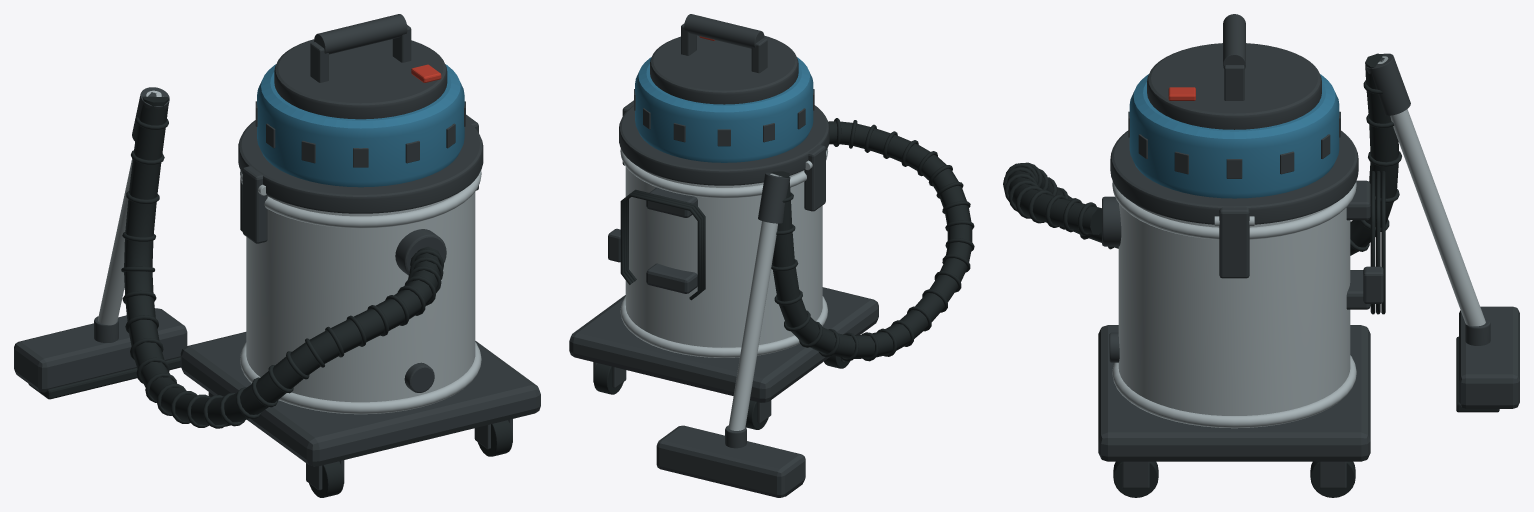
File: city-wet-dry-vacuum.glb
3 renders of one model, left to right at view 1: azimuth 30°, elevation 25°; view 2: azimuth 150°, elevation 25°; view 3: azimuth 270°, elevation 25°, orthographic. The views are drawn at different scales.
Parts seen in each view (by area): view 1: Assembly | Dark powder coated steel, Assembly | Brushed stainless fittings, Assembly | Charcoal flexible rubber, Assembly | Deep blue molded polymer; view 2: Assembly | Dark powder coated steel, Assembly | Brushed stainless fittings, Assembly | Charcoal flexible rubber, Assembly | Deep blue molded polymer; view 3: Assembly | Dark powder coated steel, Assembly | Brushed stainless fittings, Assembly | Deep blue molded polymer, Assembly | Charcoal flexible rubber.
Boxes of the visible parts, box(x1,y1,x2,y2) form: Assembly | Dark powder coated steel: box(14, 14, 540, 490); Assembly | Brushed stainless fittings: box(98, 90, 481, 414); Assembly | Charcoal flexible rubber: box(28, 96, 512, 497); Assembly | Deep blue molded polymer: box(257, 64, 464, 187); Assembly | Dark powder coated steel: box(569, 14, 878, 497); Assembly | Brushed stainless fittings: box(620, 148, 827, 430); Assembly | Charcoal flexible rubber: box(593, 118, 974, 496); Assembly | Deep blue molded polymer: box(635, 57, 813, 162); Assembly | Dark powder coated steel: box(1098, 14, 1519, 488); Assembly | Brushed stainless fittings: box(1112, 56, 1485, 428); Assembly | Deep blue molded polymer: box(1129, 74, 1339, 198); Assembly | Charcoal flexible rubber: box(1003, 53, 1499, 497).
Bounding box in the file's own units: 0.672 × 0.797 × 0.8919.
